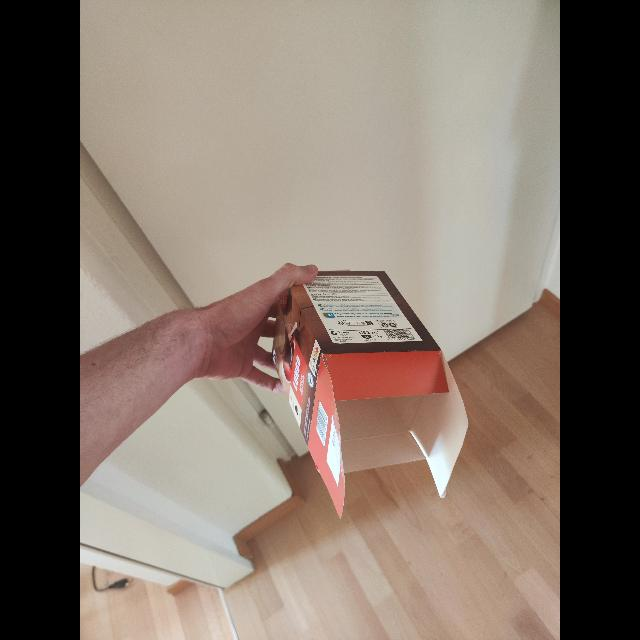Cardboard: (272, 267, 480, 517)
